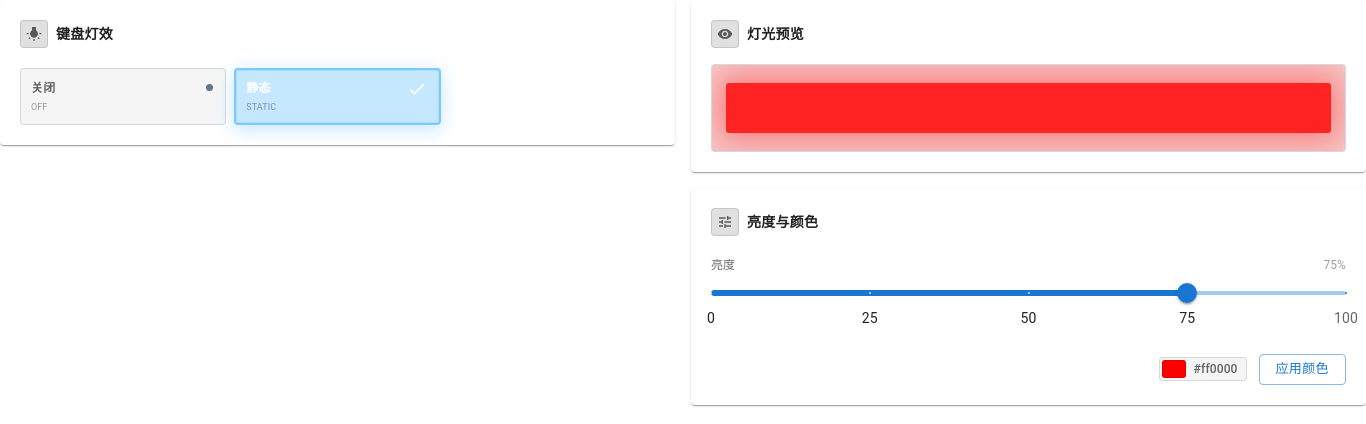
Test case: RgbPage › surfaces a daemon error without pretending the write succeeded
The width and height of the screenshot is (1366, 424).
Click the button "静态 Static" at (337, 96), box 234,68 -> 441,124
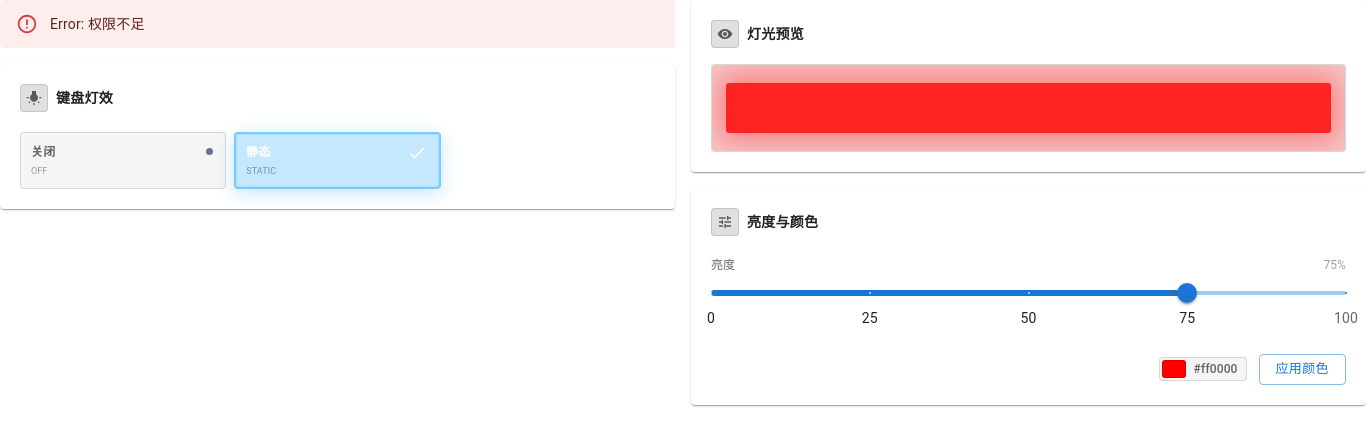
Expected: the message "Error: 权限不足" is shown, 0,0 -> 675,48
